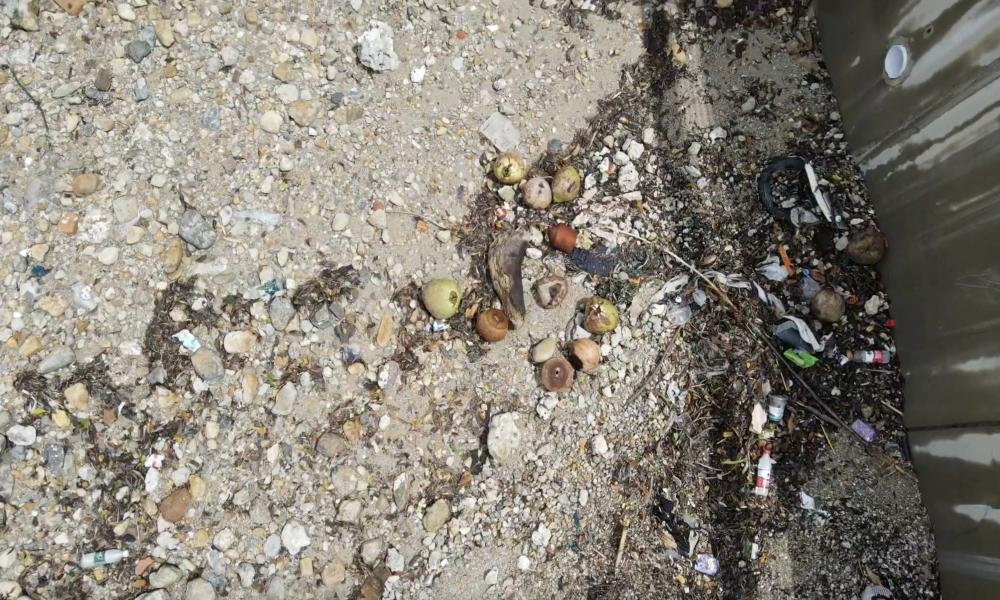plastic bottle: (79, 547, 128, 566), (756, 450, 770, 493), (854, 349, 889, 363)
